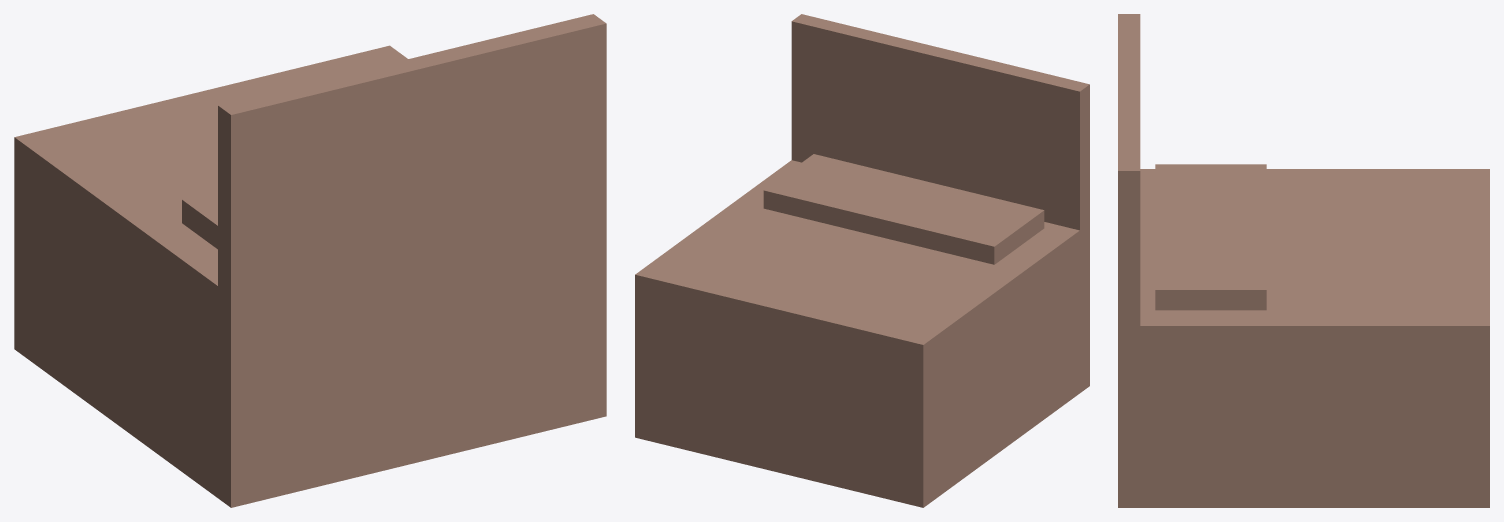
The model's file is bed.glb.
The picture shows the model from 3 angles, left to right: view 1: azimuth 30°, elevation 25°; view 2: azimuth 150°, elevation 25°; view 3: azimuth 270°, elevation 25°; orthographic projection. The views are drawn at different scales.
Bounding box in the file's own units: 1 × 1 × 1.
